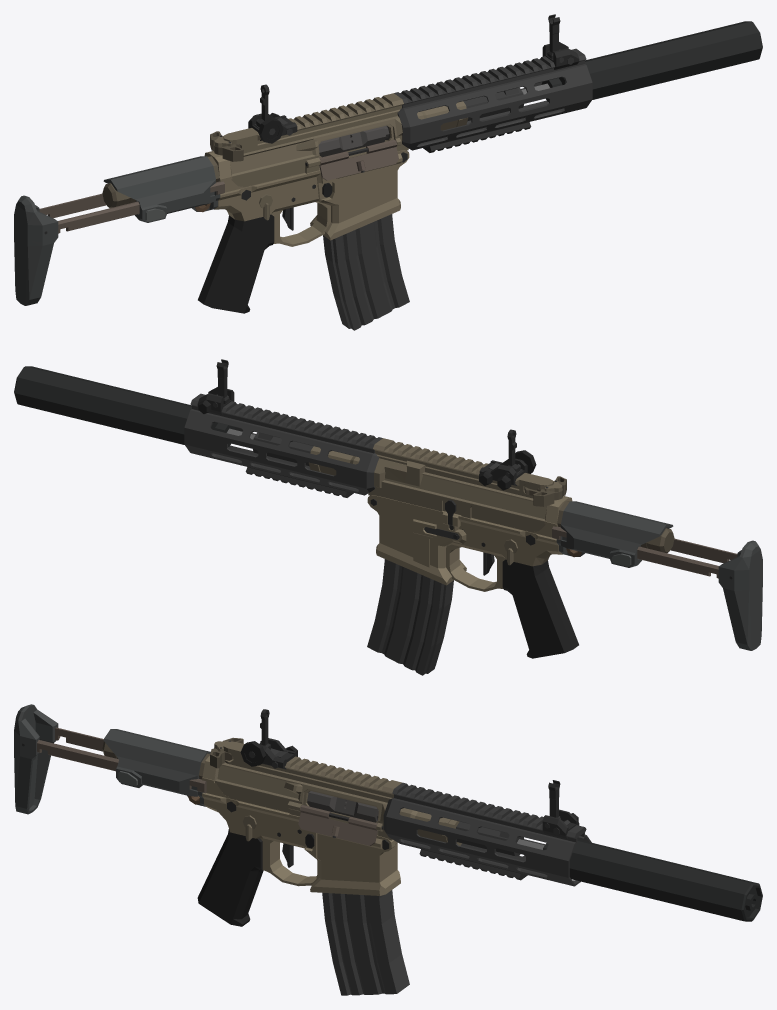
File: AAC Honeybadger.fbx
3 renders of one model, top to bottom at view 1: azimuth 30°, elevation 25°; view 2: azimuth 150°, elevation 25°; view 3: azimuth 330°, elevation 25°, orthographic.
Visible parts, largest first — view 1: Cube.005; view 2: Cube.005; view 3: Cube.005.
Part boxes in pixels (bbox=[...]): Cube.005: bbox=[14, 14, 762, 330]; Cube.005: bbox=[14, 359, 762, 675]; Cube.005: bbox=[14, 704, 762, 995].
Size of the model in its own units: 531 by 181 by 37.22.
